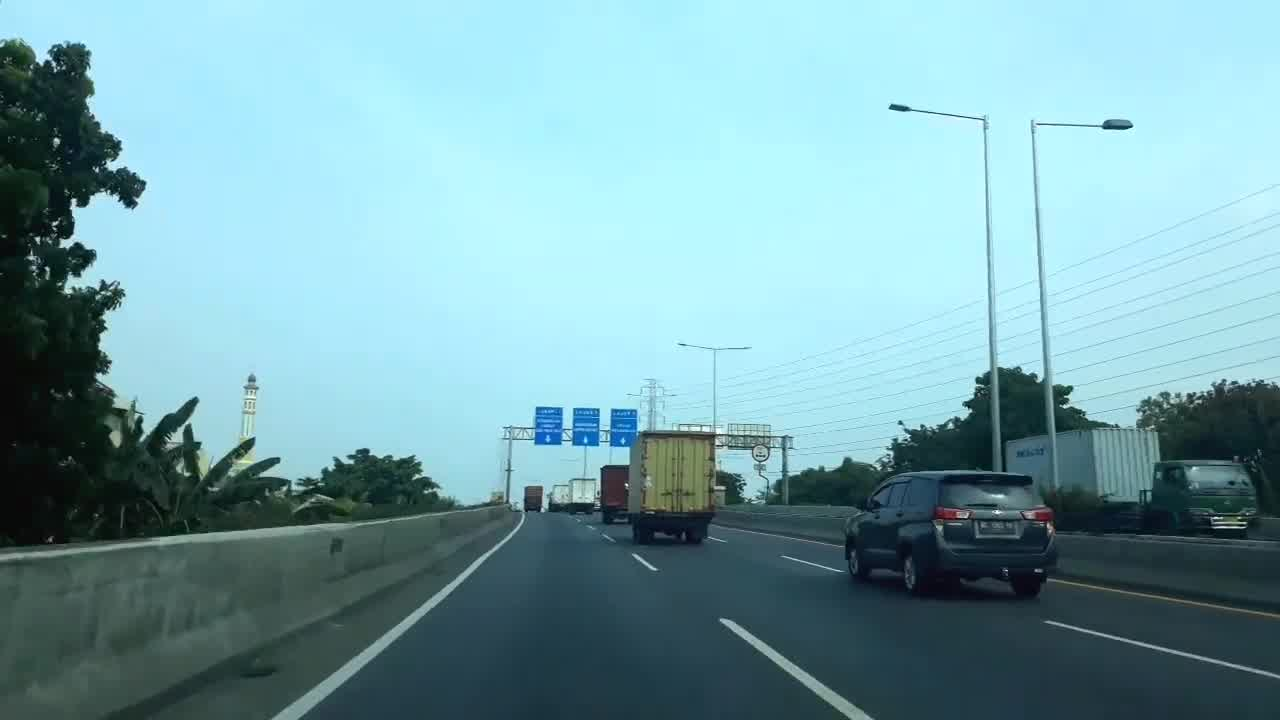plate_positive: (978, 520, 1016, 535)
